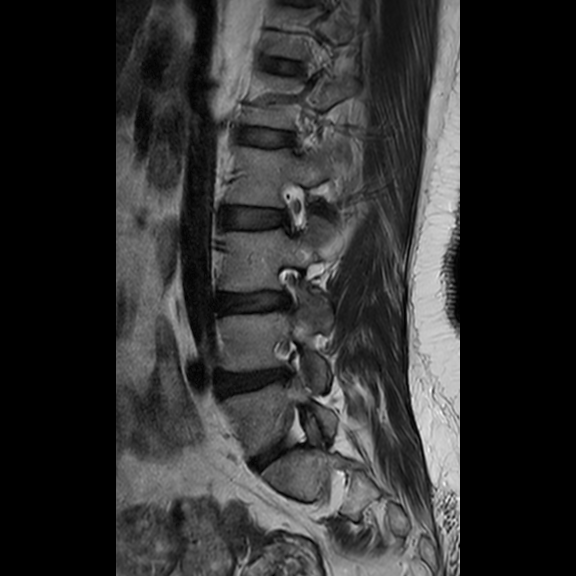RFS0: (260, 172, 312, 243), (263, 255, 310, 324)
